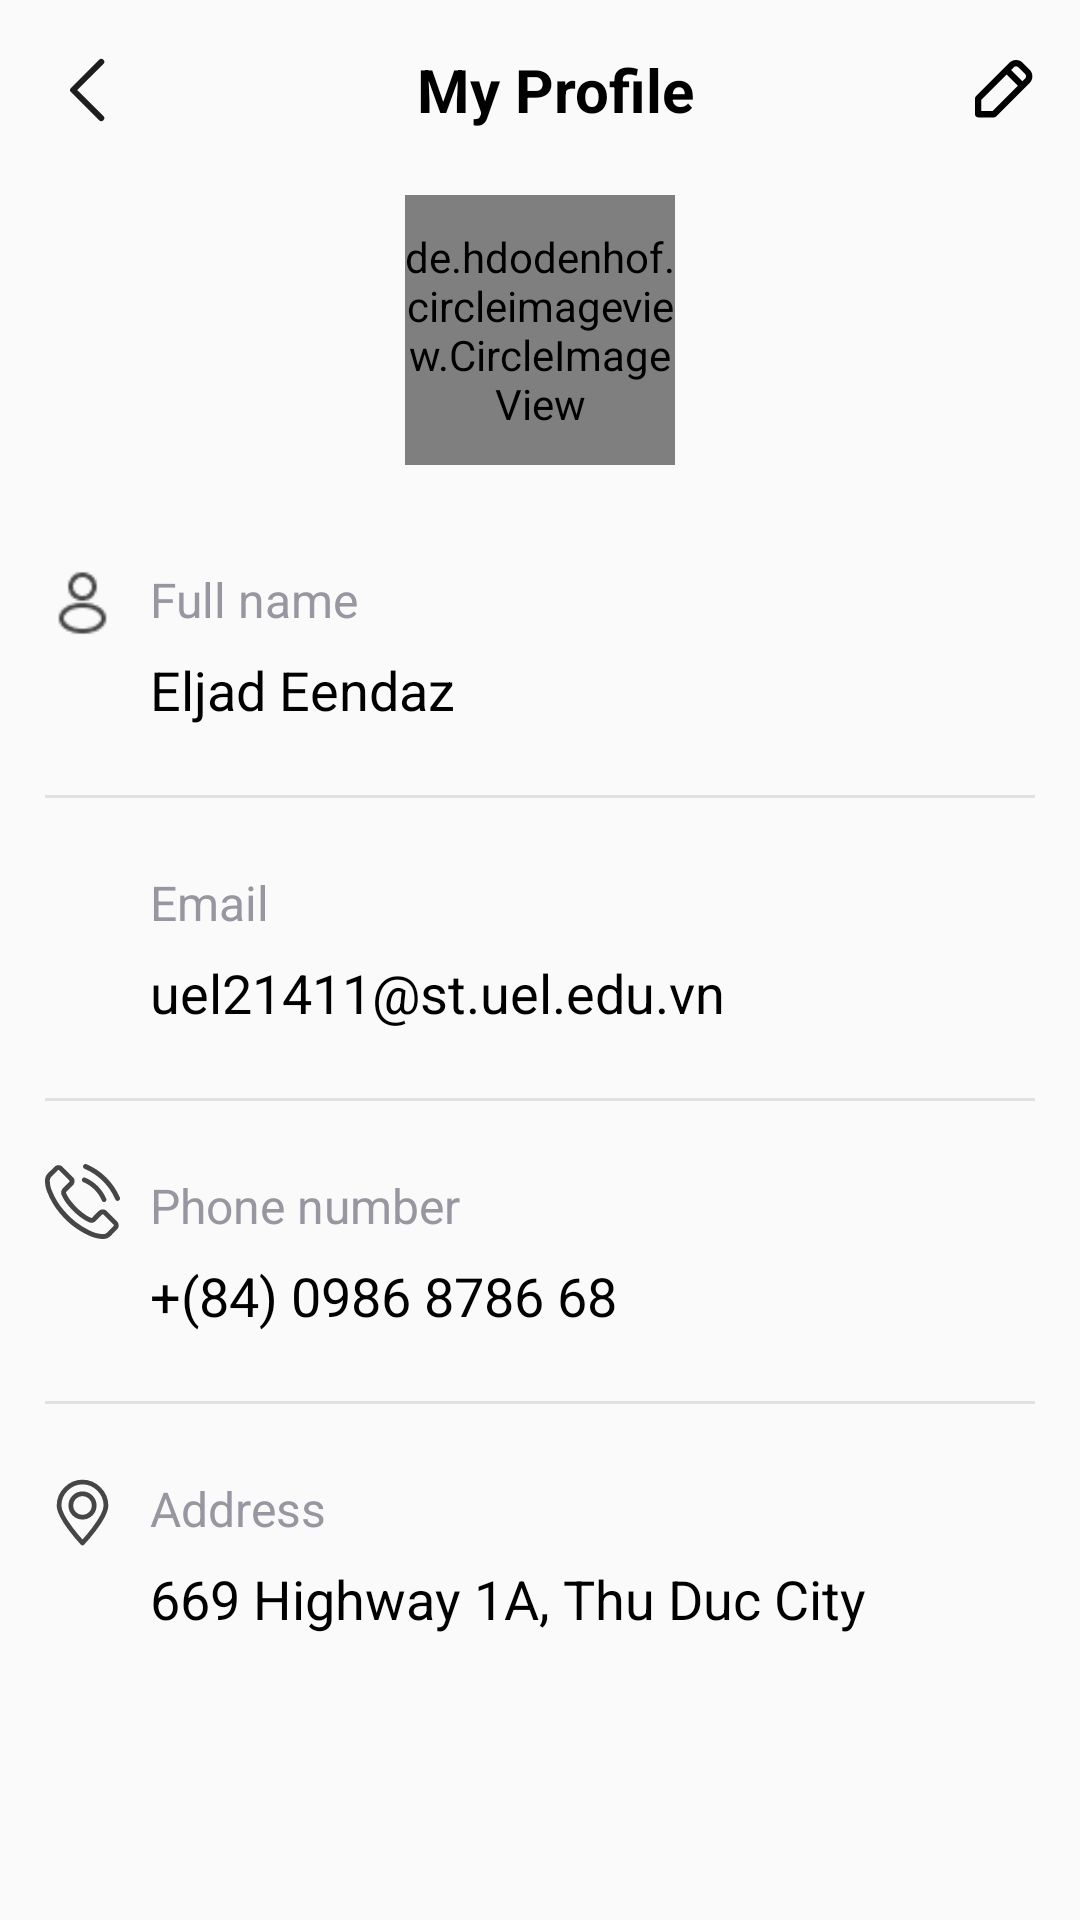

Icons on this 1080x1920 Android screen, each with the point to tap as [x,y]:
back: [87,90]
edit: [1004,89]
location: [82,1512]
user: [82,603]
